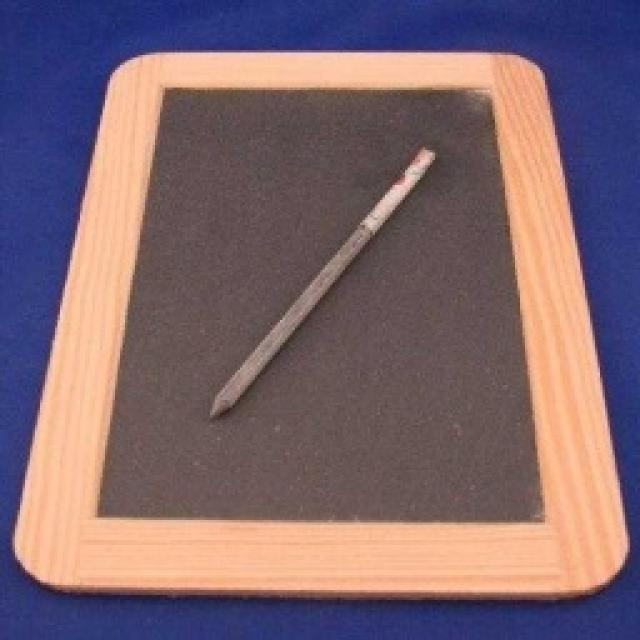pencil: (10, 45, 630, 603)
